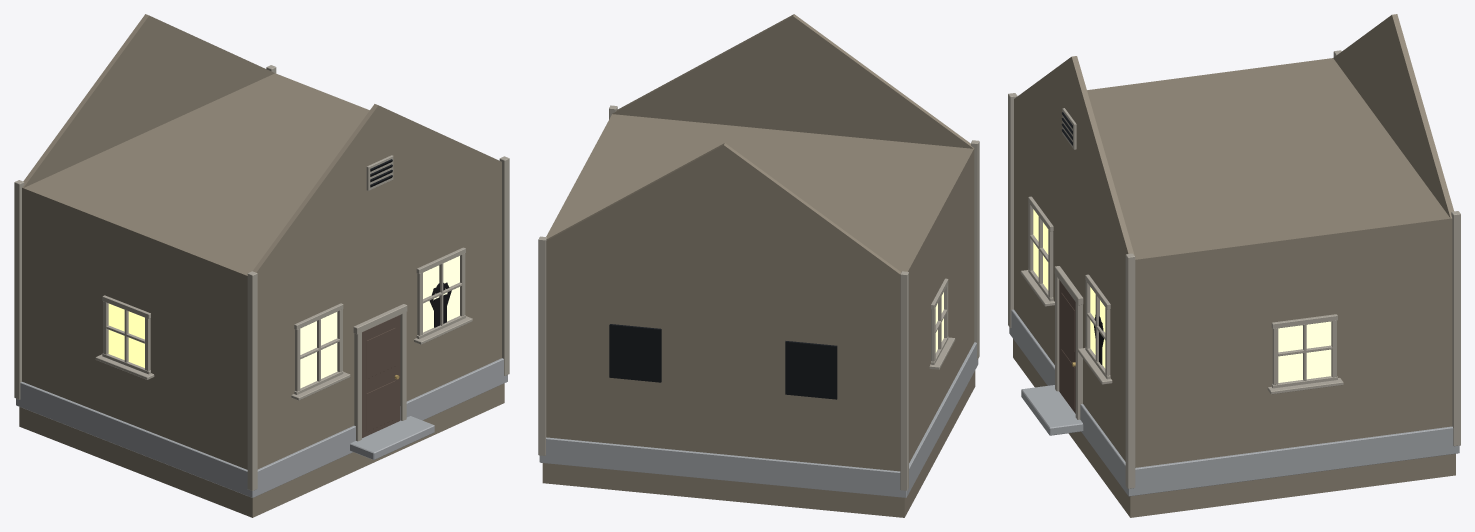
File: house1_walls.glb
3 views of the same model, side by side, from view 1: azimuth 30°, elevation 25°; view 2: azimuth 150°, elevation 25°; view 3: azimuth 270°, elevation 25° (orthographic). The views are drawn at different scales.
Parts seen in each view (by area): view 1: house1_walls; view 2: house1_walls; view 3: house1_walls.
Boxes of the visible parts, x1,y1,x2,y2 form: house1_walls: [14, 14, 509, 517]; house1_walls: [538, 14, 979, 517]; house1_walls: [1008, 14, 1460, 517].
Size of the model in its own units: 8.63 by 7.4 by 7.97.
